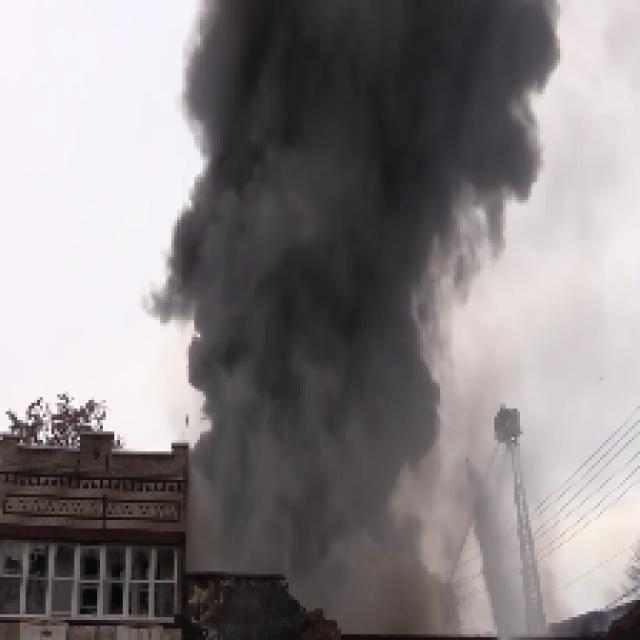Smoke: (180, 3, 526, 640)
